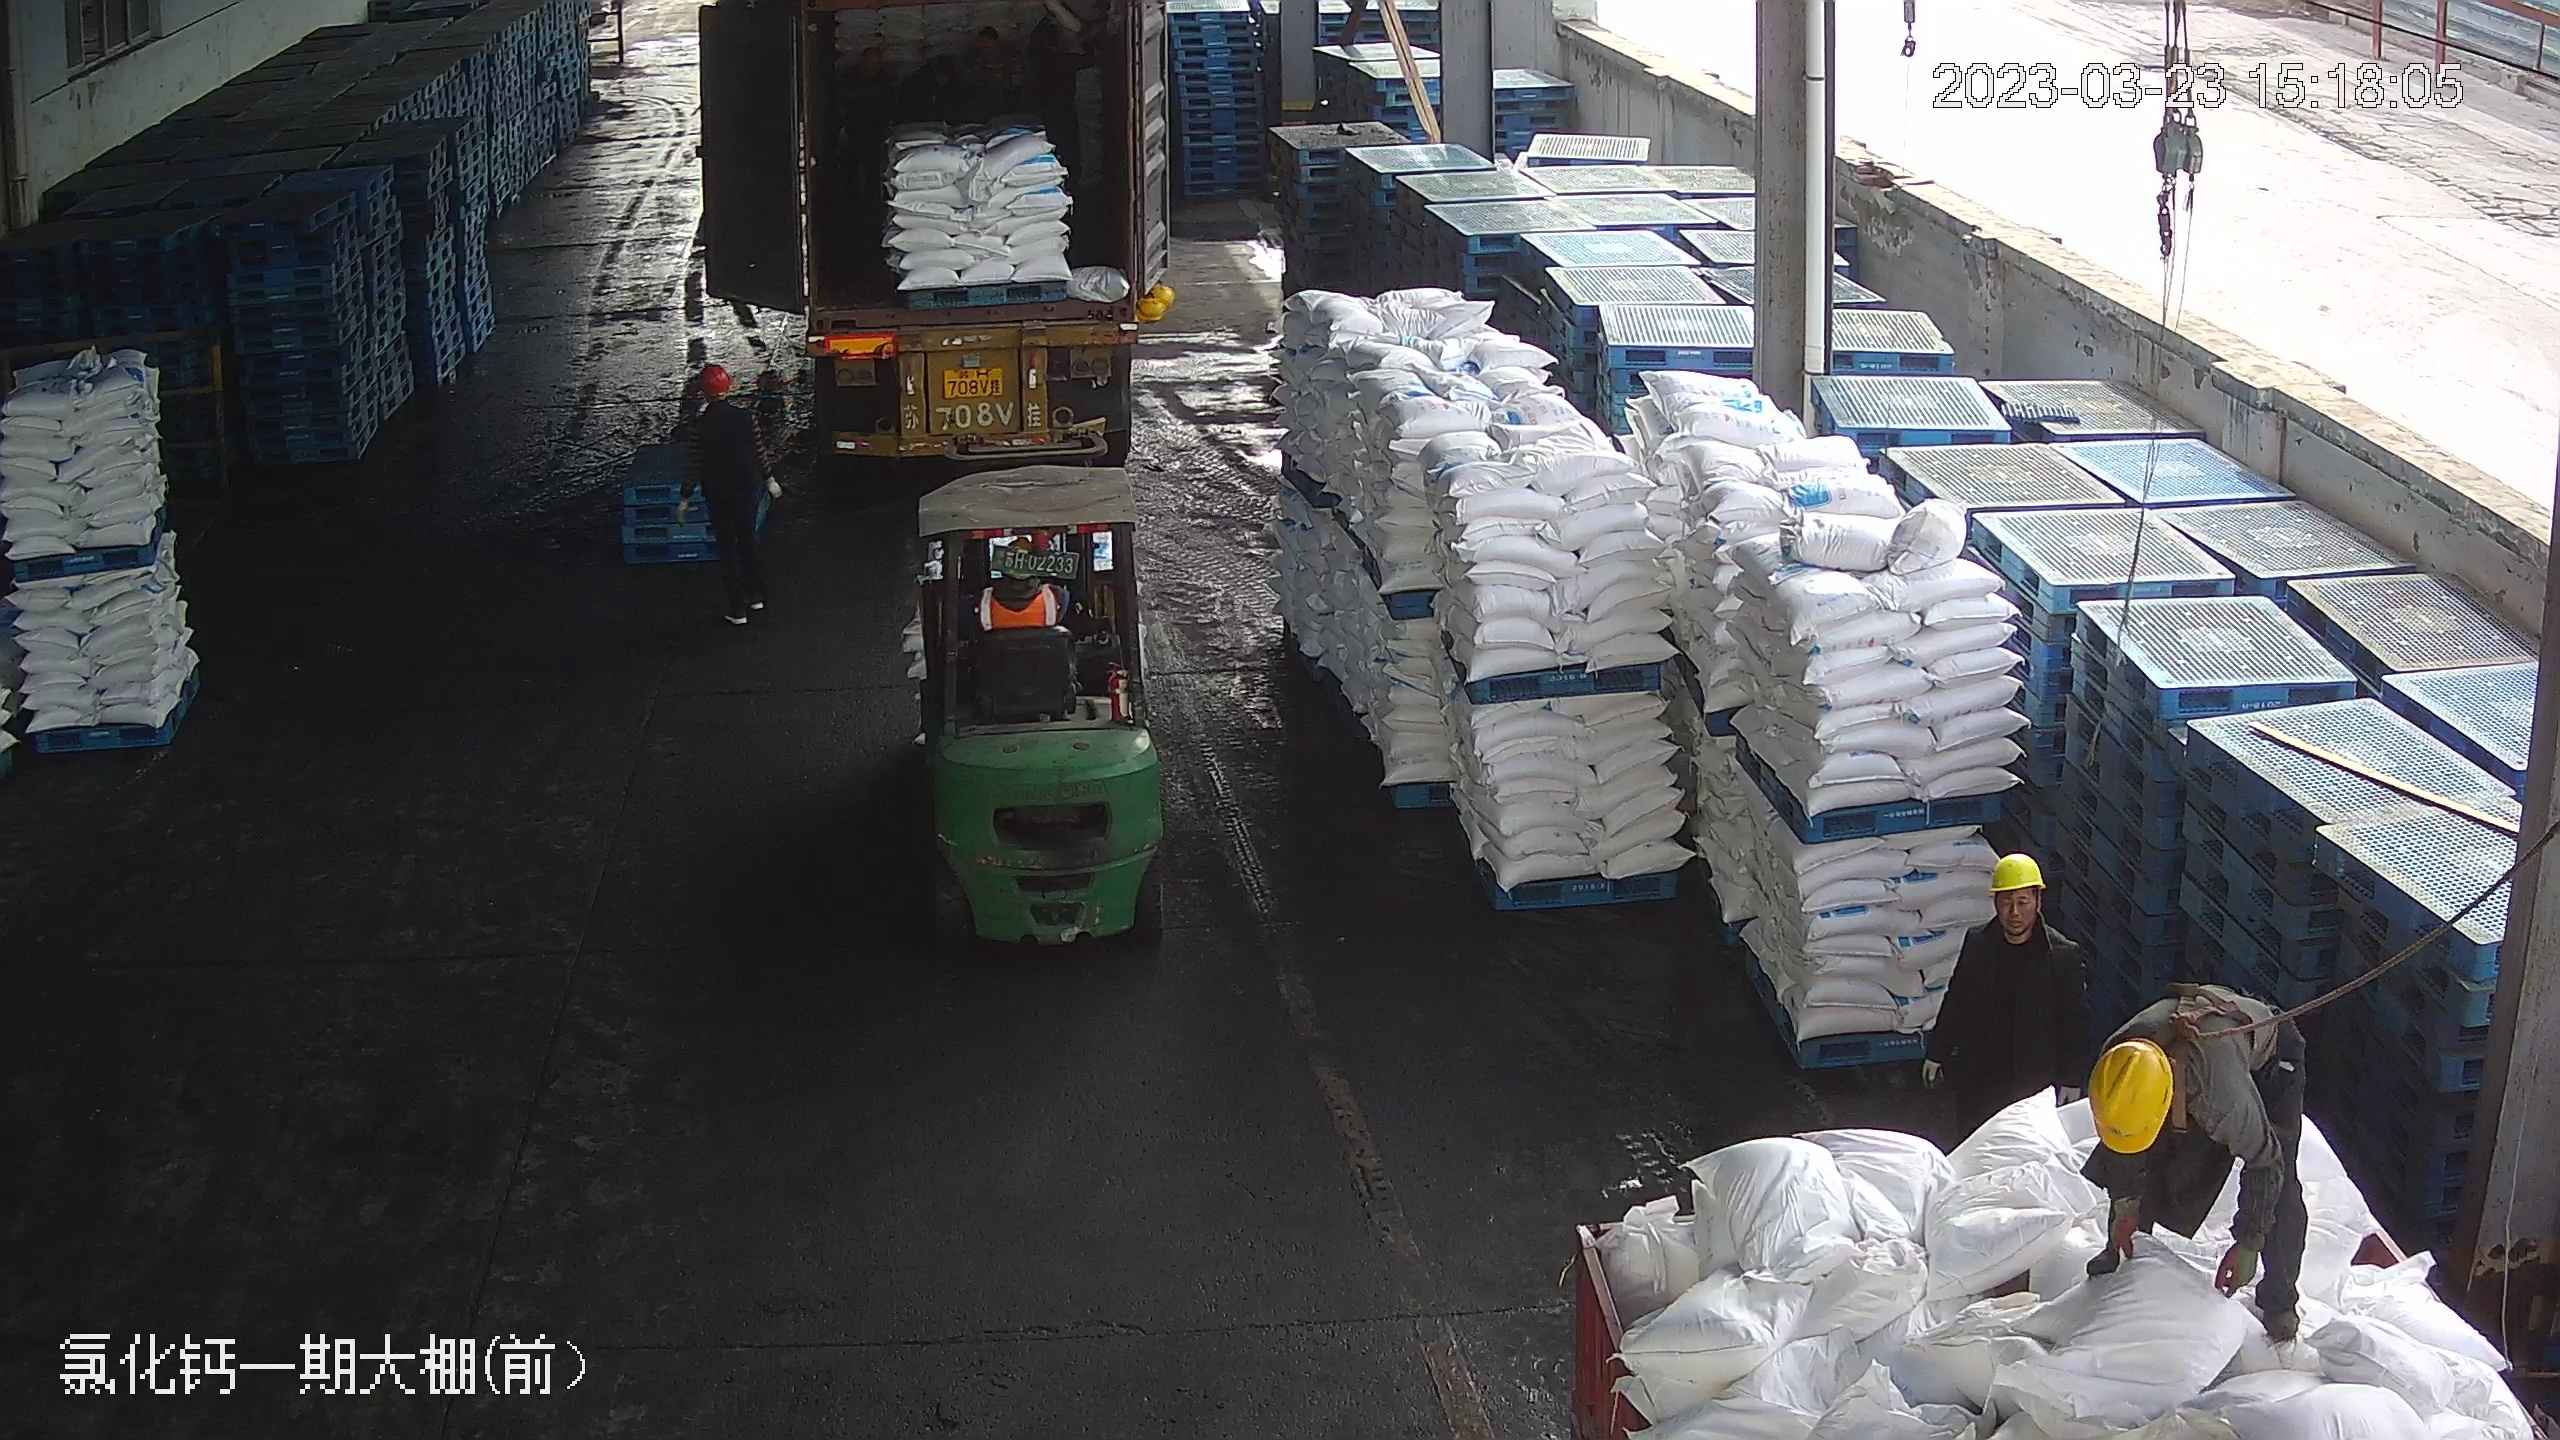belt: (2151, 979, 2278, 1125)
head: (2085, 1024, 2262, 1174), (682, 350, 774, 615), (1948, 851, 2088, 990), (684, 360, 760, 443)
helmet: (2088, 1038, 2173, 1148), (1986, 852, 2047, 895), (693, 351, 735, 389), (1136, 298, 1168, 322), (1151, 282, 1177, 307)
people: (2079, 998, 2314, 1342), (1918, 848, 2095, 1120), (681, 352, 776, 627)
truck: (1547, 1073, 2560, 1440), (772, 8, 1165, 470)
